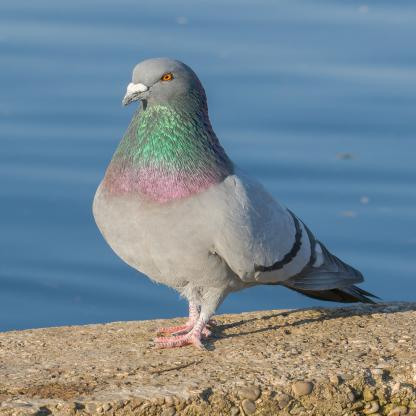Rock Pigeon: (77, 53, 388, 352)
